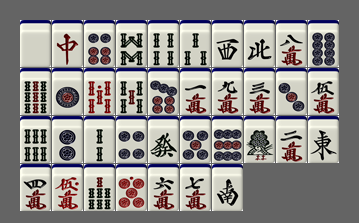0m: (52, 164, 83, 211)
0p: (116, 164, 147, 211)
0s: (84, 68, 115, 115)
1m: (180, 68, 211, 115)
1p: (52, 68, 83, 115)
1s: (244, 116, 275, 163)
1z: (308, 116, 339, 163)
2m: (276, 116, 307, 163)
2p: (52, 116, 83, 163)
2s: (84, 116, 115, 163)
2z: (212, 164, 243, 211)
3m: (244, 68, 275, 115)
3p: (276, 68, 307, 115)
3s: (180, 20, 211, 67)
3z: (212, 20, 243, 67)
4m: (20, 164, 51, 211)
4p: (116, 116, 147, 163)
4s: (148, 20, 179, 67)
4z: (244, 20, 275, 67)
5m: (308, 68, 339, 115)
5p: (180, 116, 211, 163)
5s: (116, 68, 147, 115)
5z: (20, 20, 51, 67)
6m: (148, 164, 179, 211)
6p: (84, 20, 115, 67)
6s: (20, 116, 51, 163)
6z: (148, 116, 179, 163)
7m: (180, 164, 211, 211)
7p: (148, 68, 179, 115)
7s: (84, 164, 115, 211)
7z: (52, 20, 83, 67)
8m: (276, 20, 307, 67)
8p: (308, 20, 339, 67)
8s: (116, 20, 147, 67)
9m: (212, 68, 243, 115)
9p: (212, 116, 243, 163)
9s: (20, 68, 51, 115)
